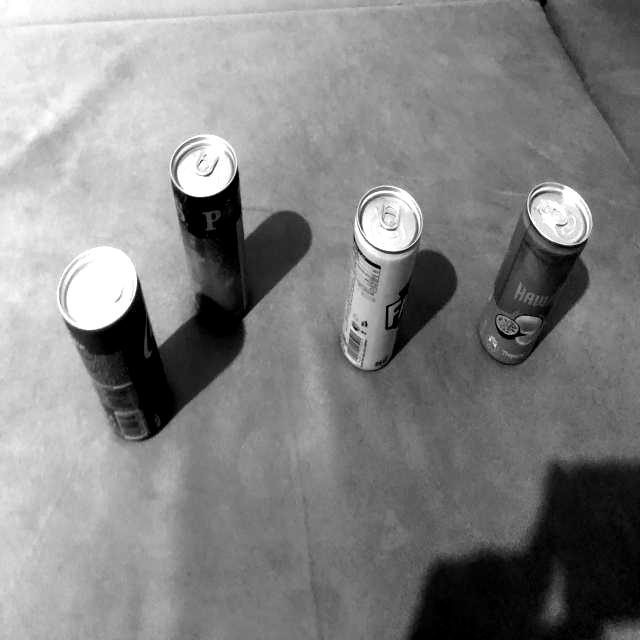metal: (50, 233, 173, 446), (471, 177, 593, 370), (166, 131, 257, 328), (336, 185, 423, 378)
